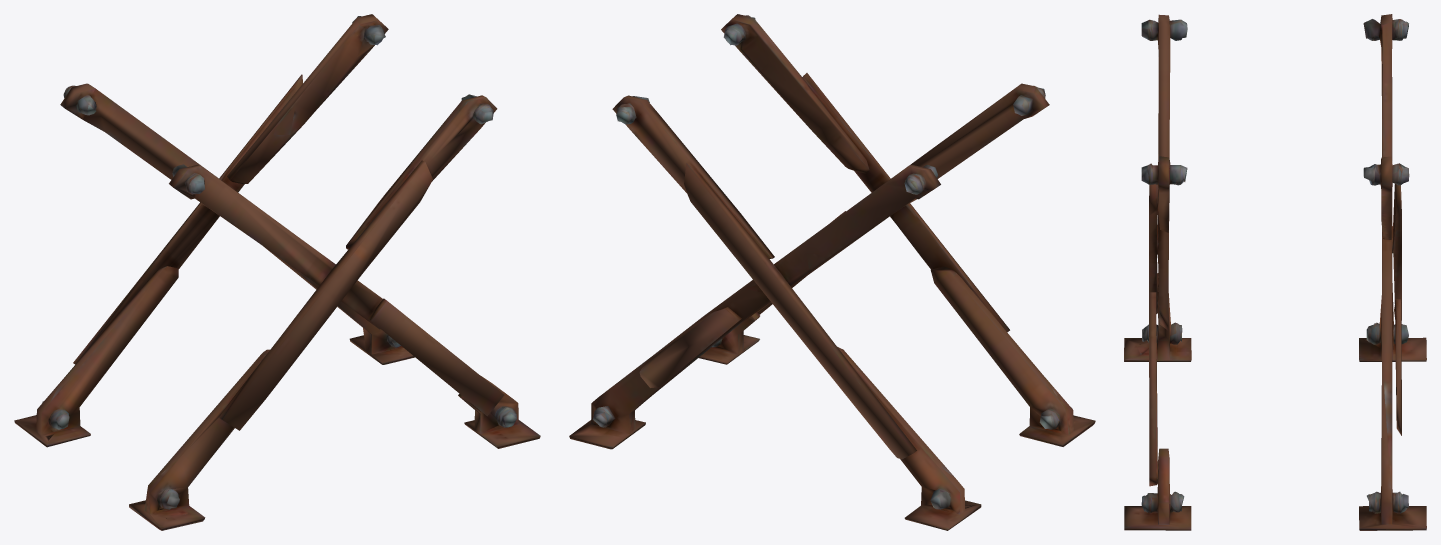
File: prop_hedgehog.glb
3 renders of one model, left to right at view 1: azimuth 30°, elevation 25°; view 2: azimuth 150°, elevation 25°; view 3: azimuth 270°, elevation 25°, orthographic. The views are drawn at different scales.
Parts seen in each view (by area): view 1: node_0; view 2: node_0; view 3: node_0.
Part boxes in pixels (x1=…): node_0: x1=14, y1=14, x2=540, y2=530; node_0: x1=569, y1=14, x2=1095, y2=530; node_0: x1=1124, y1=14, x2=1426, y2=530.
Size of the model in its own units: 0.8173 by 0.6979 by 0.5497.
1 material, 1 textured.
